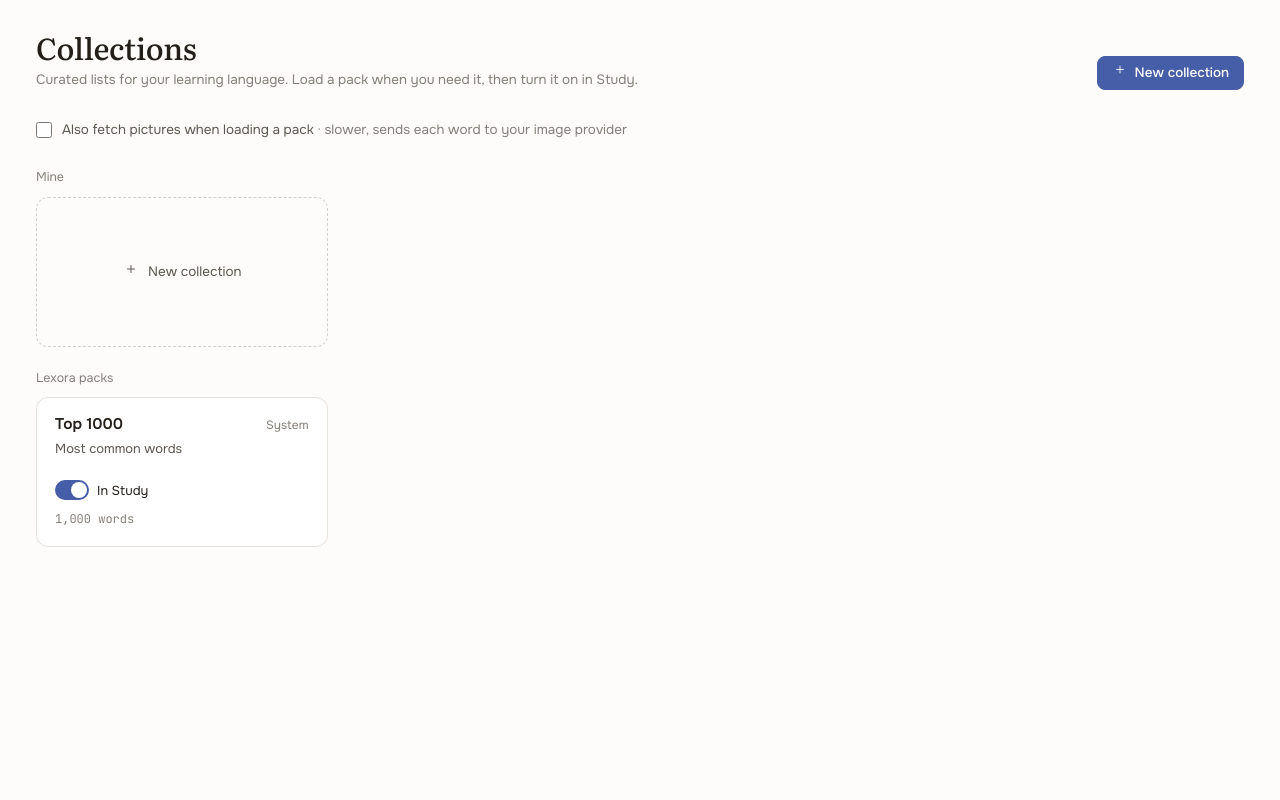
Scenario: CollectionsPage › asks for confirmation before disabling a pack and does nothing on cancel
Click the button with aria-label "Active in SRS, disable Top 1000" at (102, 490), box [55,480,148,500]
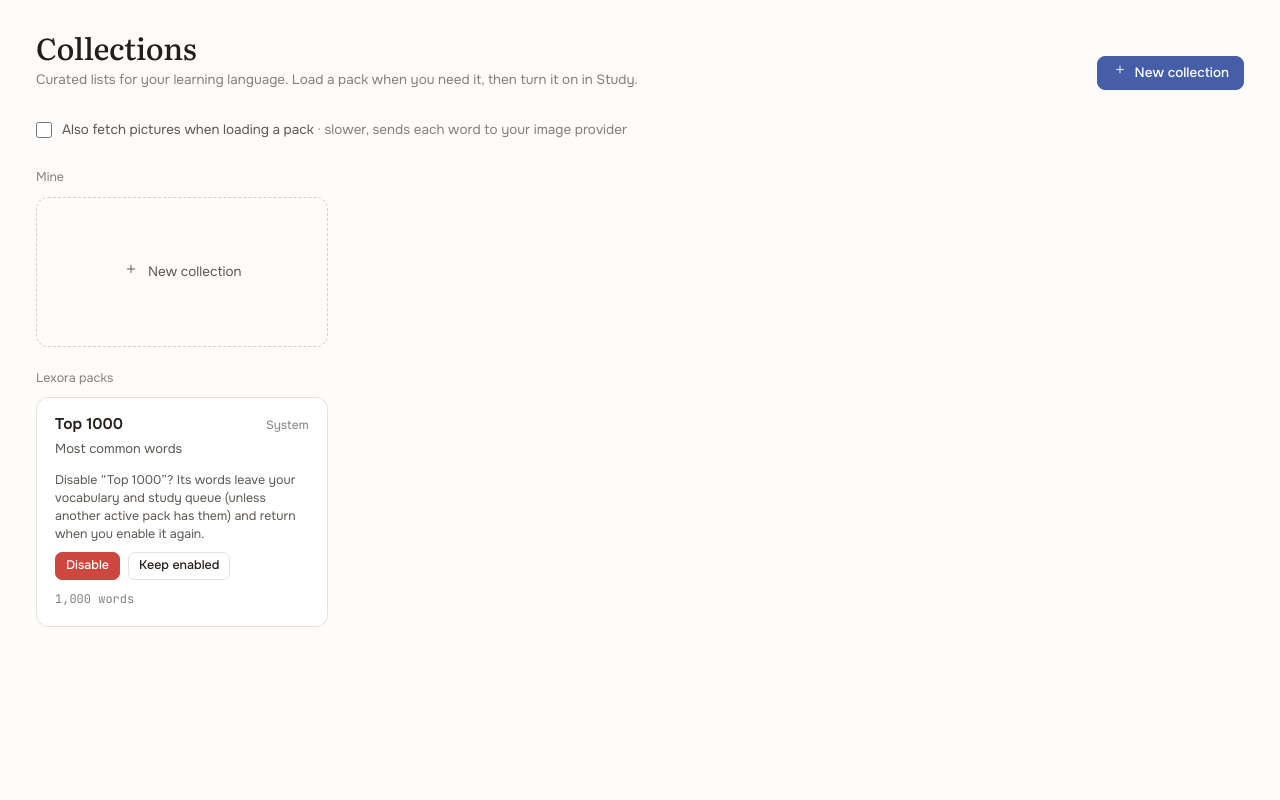
Result: the element named "confirm disabling top 1000" shows "words leave your vocabulary" at [55,472,296,542]
Click the button "Keep enabled" at (179, 566), box [128,552,230,580]
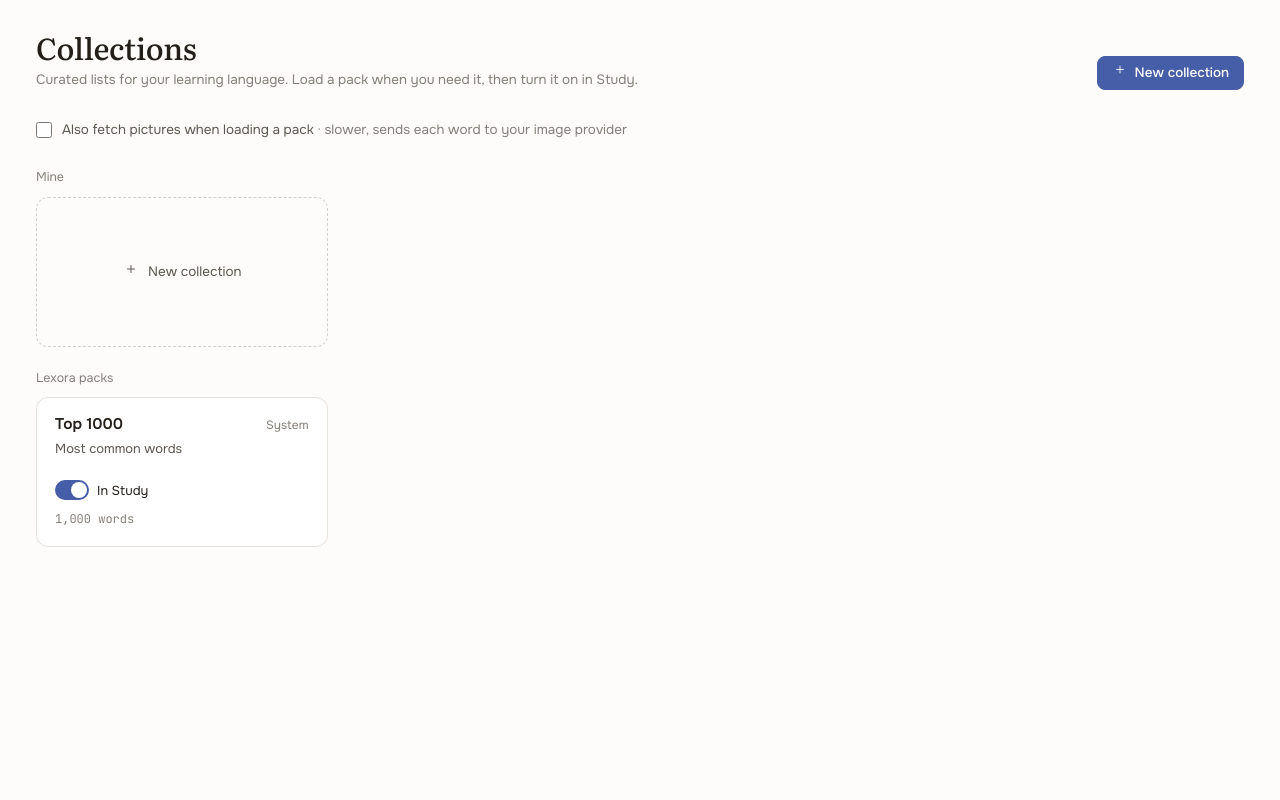
Result: the button with aria-label "Active in SRS, disable Top 1000" is shown at [55,480,148,500]
